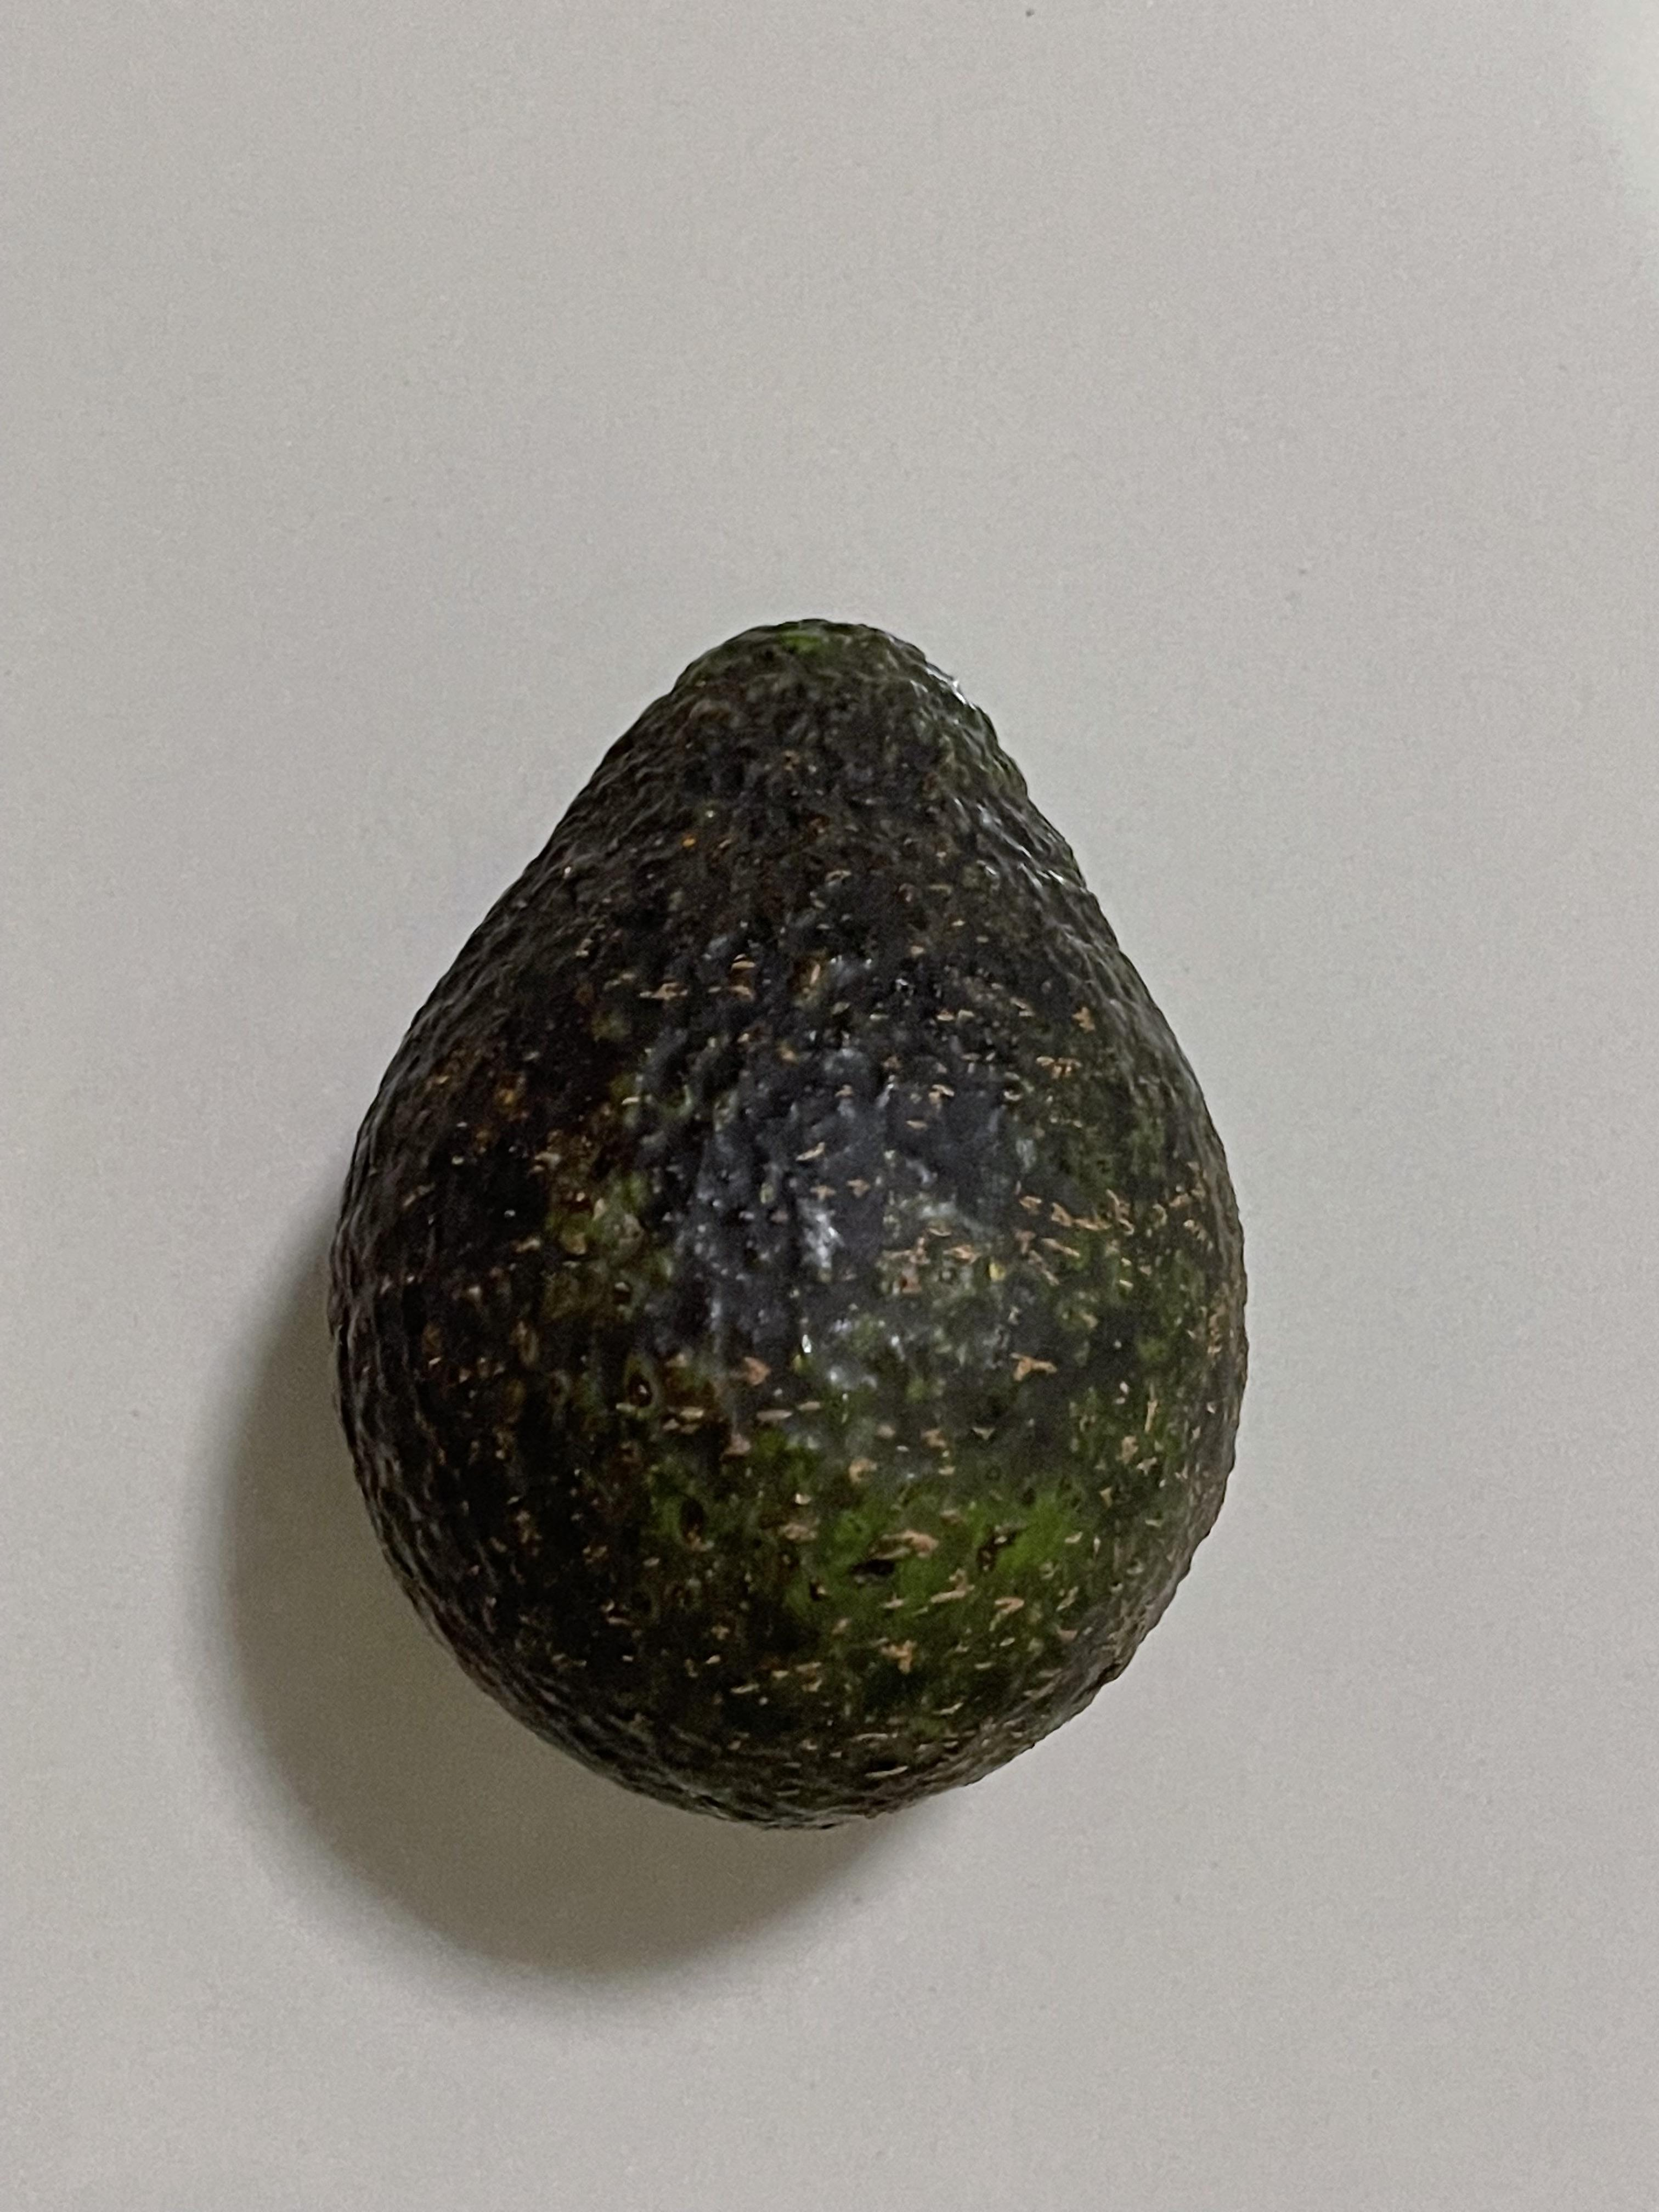Level1: (281, 559, 1298, 1867)
